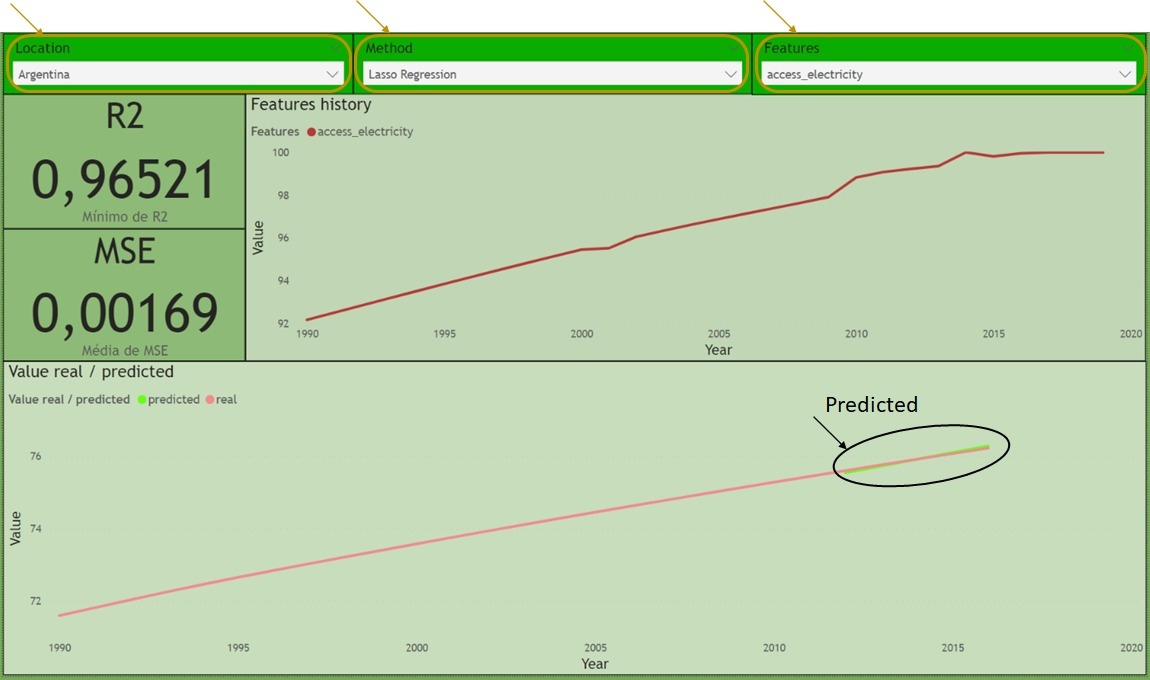

Layout of this report page (visuals, bound fields, positions):
{"tool":"powerbi","page":{"name":"Dashboard","canvas":[1280,720],"ordinal":0},"visuals":[{"type":"lineChart","title":"Value real / predicted","fields":{"Y":["Sum(results.valor)"],"Series":["results.valor_type"],"Category":["results.year"]},"box":[0,368.1,1279.7,351],"z":0},{"type":"slicer","fields":{"Values":["results.location"]},"box":[0,1.8,392.2,69],"z":1000},{"type":"slicer","fields":{"Values":["results.method"]},"box":[391.9,1.5,446.2,69],"z":2000},{"type":"card","title":"R2","fields":{"Values":["Min(results_metricas.r2)"]},"box":[0,69,271.3,151.3],"z":3000},{"type":"card","title":"MSE","fields":{"Values":["Avg(results_metricas.mse)"]},"box":[0,220.3,271.3,147.8],"z":4000},{"type":"lineChart","title":"Features history","fields":{"Category":["final_table.year"],"Y":["Sum(final_table.Value)"],"Series":["final_table.Attribute"]},"box":[271.3,69,1008.4,299.1],"z":5000},{"type":"slicer","fields":{"Values":["final_table.Attribute"]},"box":[838.2,1.8,441.5,69],"z":6000}]}

Visuals, with their boxes in screenshot pixels (x1, y1, x2, y2):
"Value real / predicted" lineChart: 3,356,1137,667
slicer - results.location: 3,32,350,93
slicer - results.method: 350,31,746,92
"R2" card: 3,91,243,225
"MSE" card: 3,225,243,356
"Features history" lineChart: 243,91,1137,356
slicer - final_table.Attribute: 746,32,1137,93
